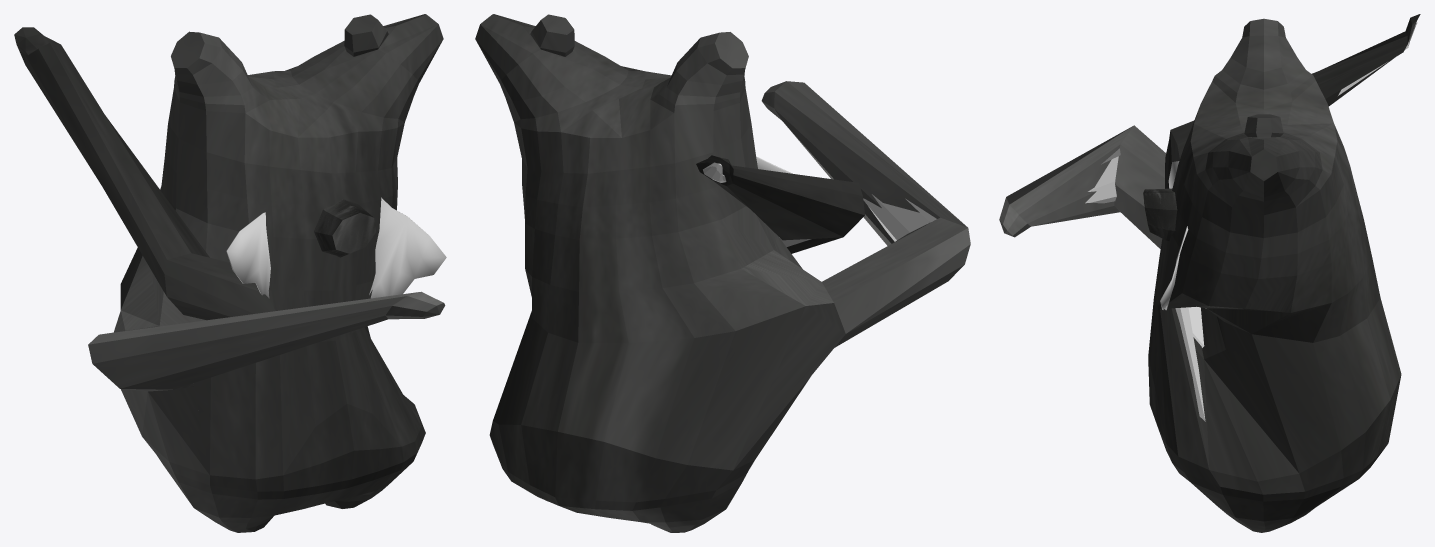
The model's file is frame_0004.obj.
The picture shows the model from 3 angles, left to right: view 1: azimuth 30°, elevation 25°; view 2: azimuth 150°, elevation 25°; view 3: azimuth 270°, elevation 25°; orthographic projection. The views are drawn at different scales.
Parts seen in each view (by area): view 1: korok, leaf, nose; view 2: korok; view 3: korok, nose, leaf.
Part boxes in pixels (<box>): korok: <box>14,14,445,532</box>; leaf: <box>226,197,446,298</box>; nose: <box>314,198,375,257</box>; korok: <box>475,14,970,532</box>; korok: <box>999,14,1420,532</box>; nose: <box>1143,188,1177,240</box>; leaf: <box>1160,161,1188,310</box>.
Size of the model in its own units: 1.96 by 2.25 by 1.92.
